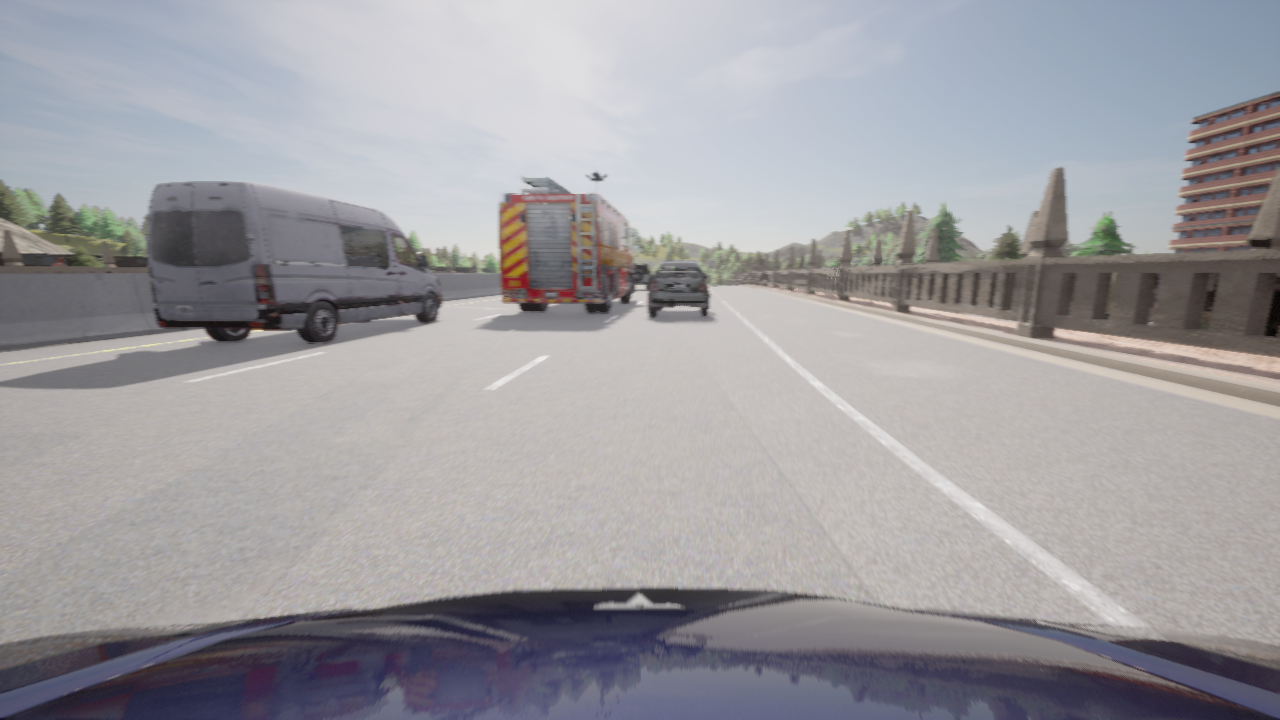cyclist: (0, 588, 1279, 719), (145, 182, 441, 343), (499, 176, 639, 312), (648, 261, 709, 317), (633, 264, 652, 289)
pedestrian: (52, 257, 66, 272)
